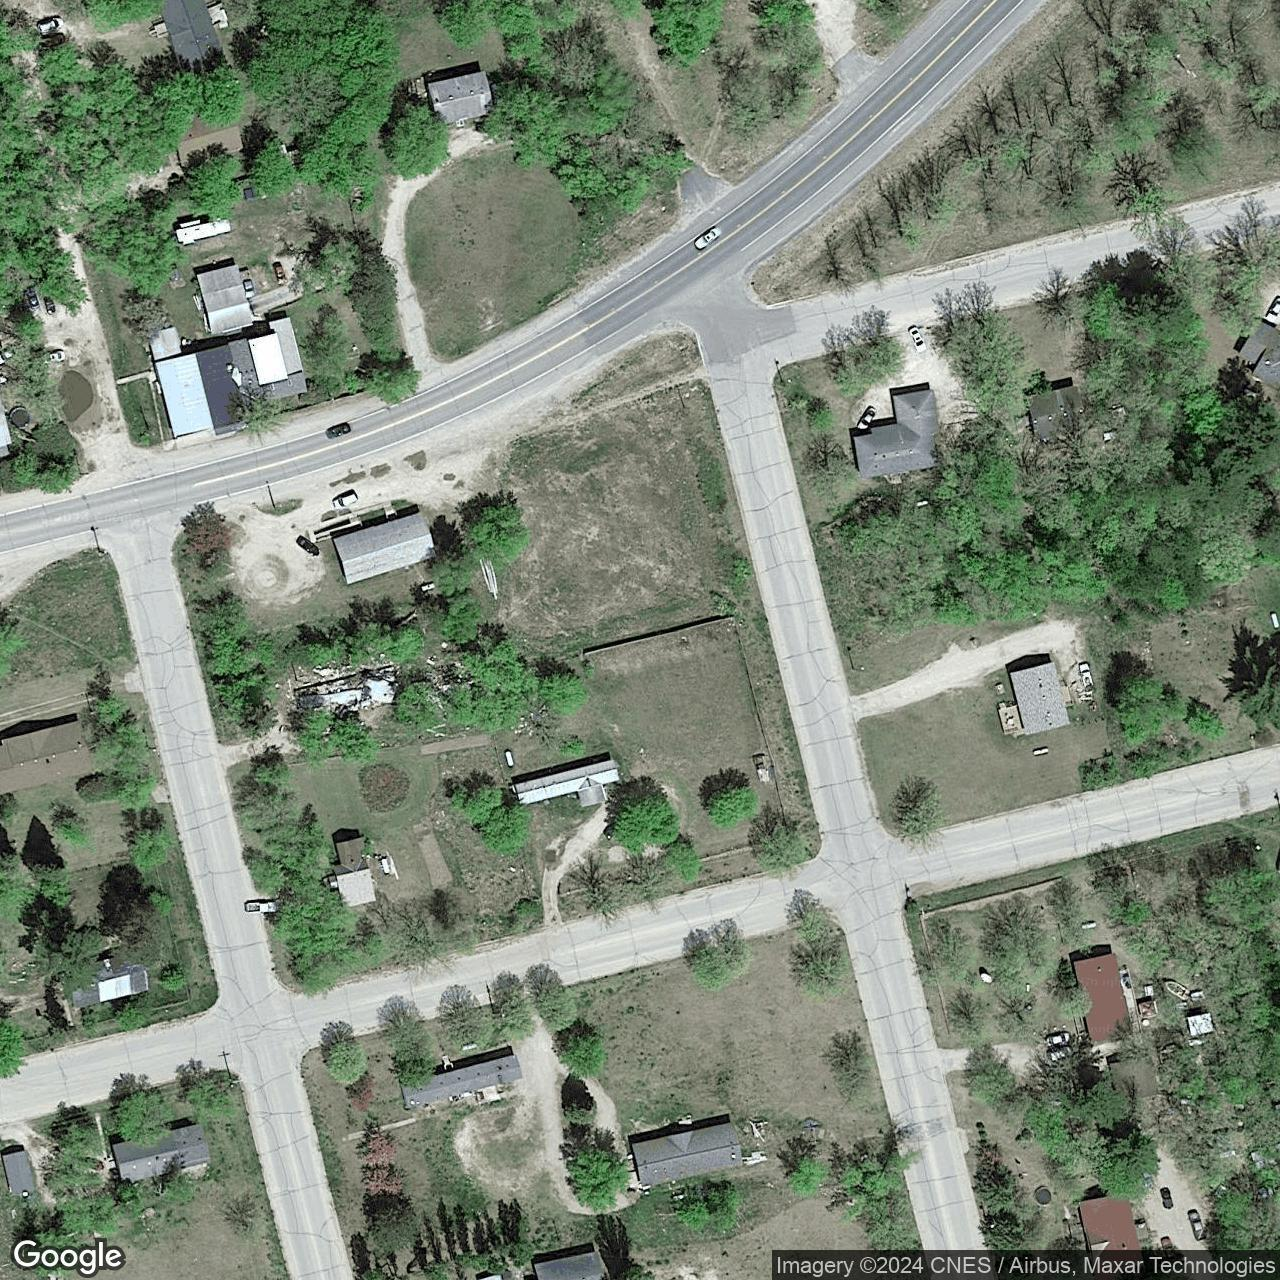Garage: (197, 263, 254, 335), (1109, 1056, 1159, 1102), (1, 1149, 38, 1196), (1268, 610, 1279, 629)
House: (148, 316, 308, 438), (852, 389, 945, 478), (332, 510, 437, 586), (631, 1122, 744, 1186), (0, 720, 94, 795), (110, 1122, 212, 1185), (1074, 953, 1132, 1046), (63, 949, 149, 1009), (1009, 661, 1071, 736), (171, 105, 244, 169), (424, 69, 496, 128), (326, 836, 379, 908), (1023, 386, 1090, 442), (1078, 1194, 1139, 1250), (1239, 320, 1279, 393), (533, 1252, 606, 1279), (0, 396, 14, 449)
Propane: (379, 857, 392, 876), (504, 748, 513, 769), (1033, 745, 1049, 757), (421, 580, 436, 592), (462, 1041, 478, 1051), (914, 497, 931, 508), (1081, 920, 1097, 931)
Trailer: (400, 1054, 523, 1109), (513, 757, 620, 806), (177, 216, 232, 245)
